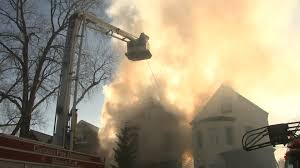smoke: (110, 1, 300, 160)
